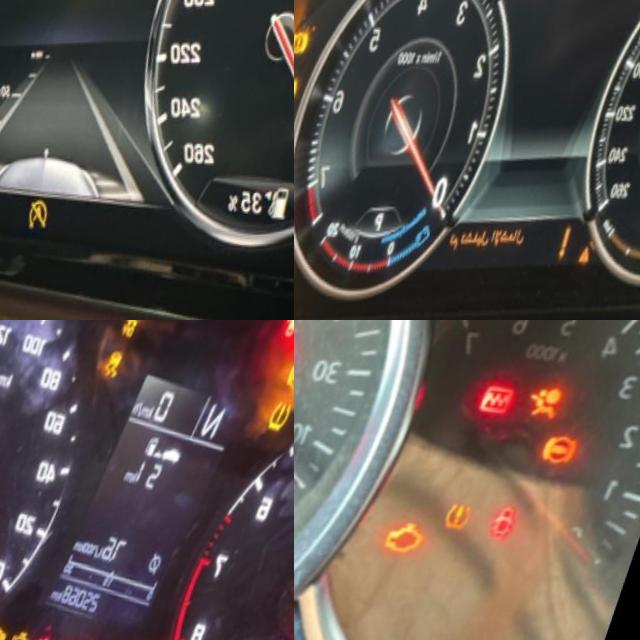Central Warning lamp: (595, 247, 615, 270)
Doors: (284, 320, 294, 344)
security: (0, 621, 29, 640)
